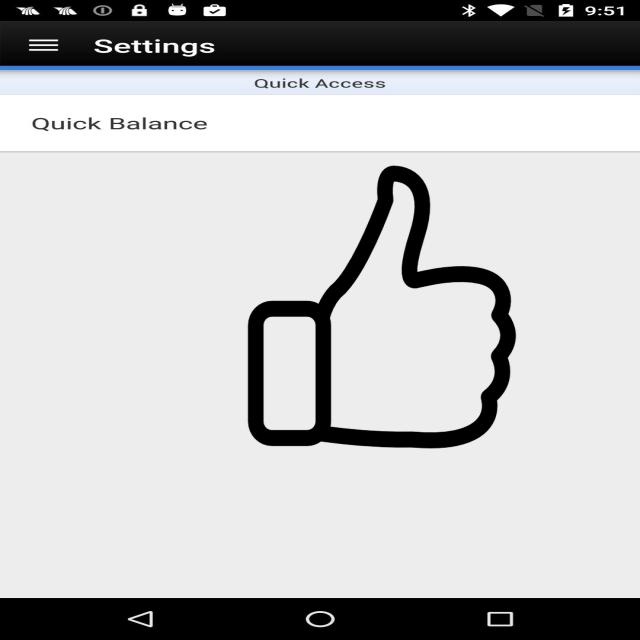privacy zuckering: (244, 166, 520, 448)
